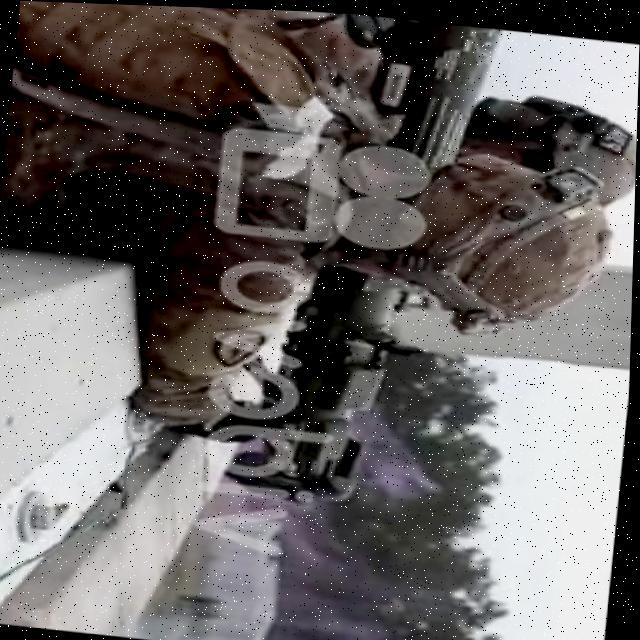rocket: (236, 7, 491, 503)
